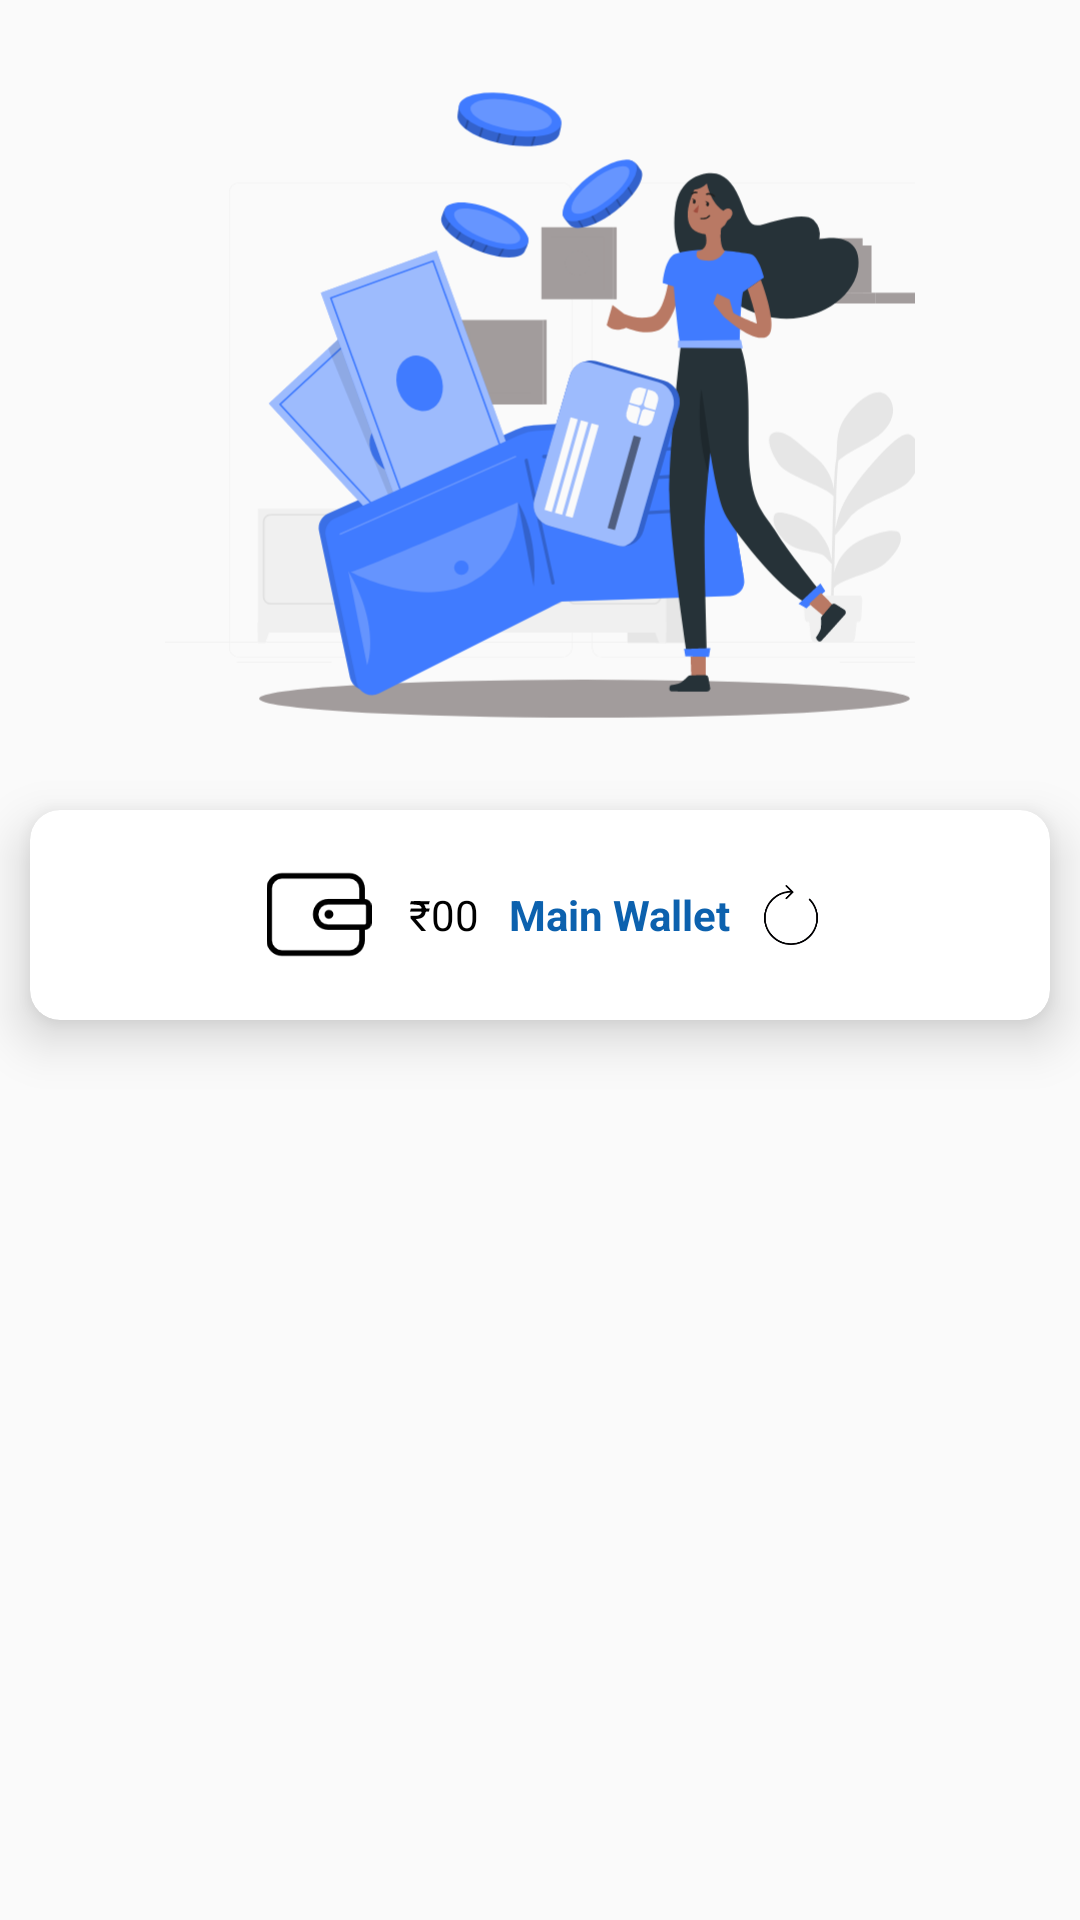

Screen size 1080px×1920px. Icon name, then its center in pixels as (x,y):
refresh: (791,915)
